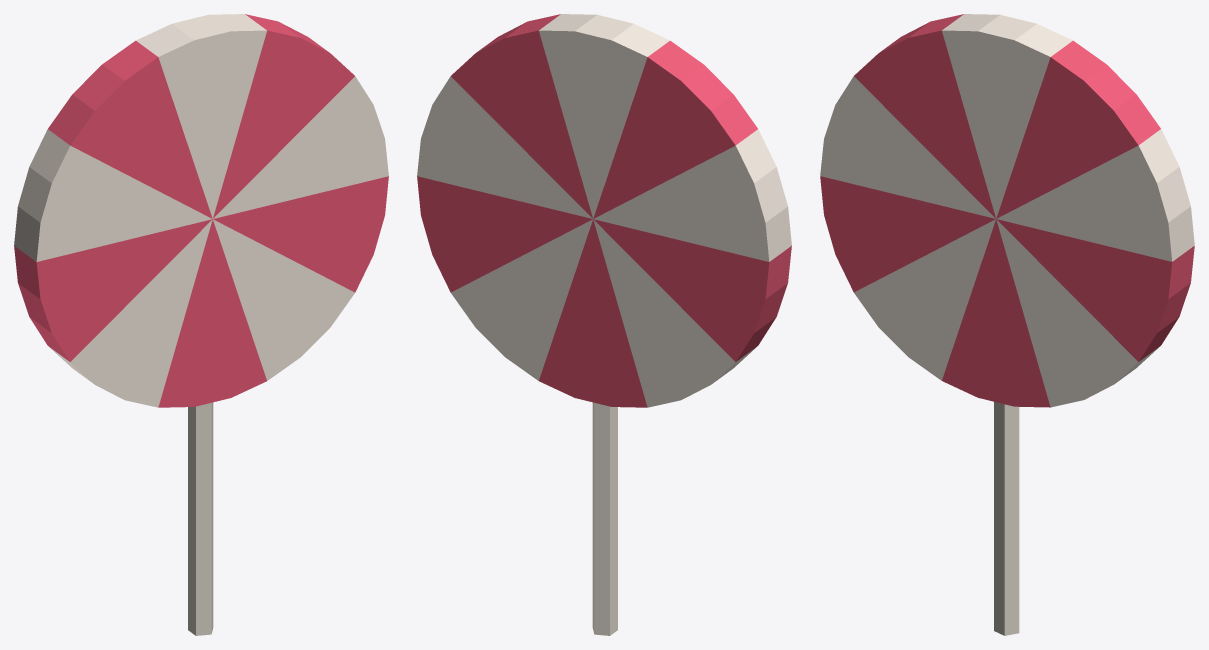
Rendered from Food_Lollipop.obj.
3 renders of one model, left to right at view 1: azimuth 30°, elevation 25°; view 2: azimuth 150°, elevation 25°; view 3: azimuth 330°, elevation 25°, orthographic.
Bounding box in the file's own units: 1.8 × 2.95 × 0.2.
